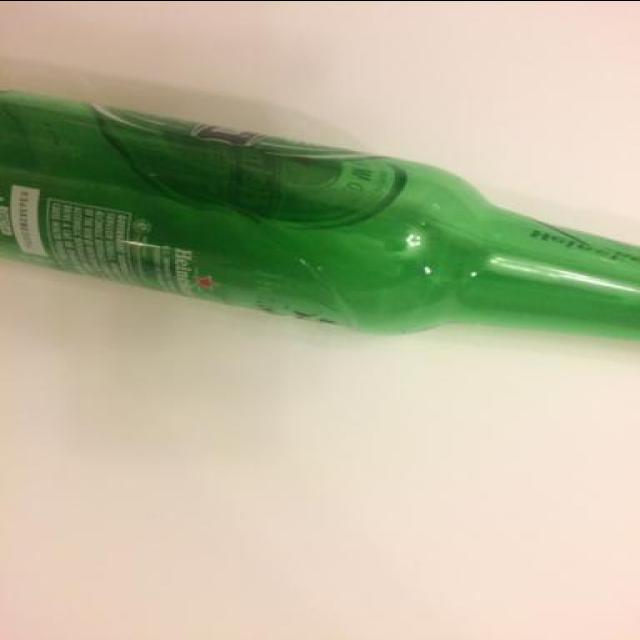litter: (2, 80, 636, 344)
